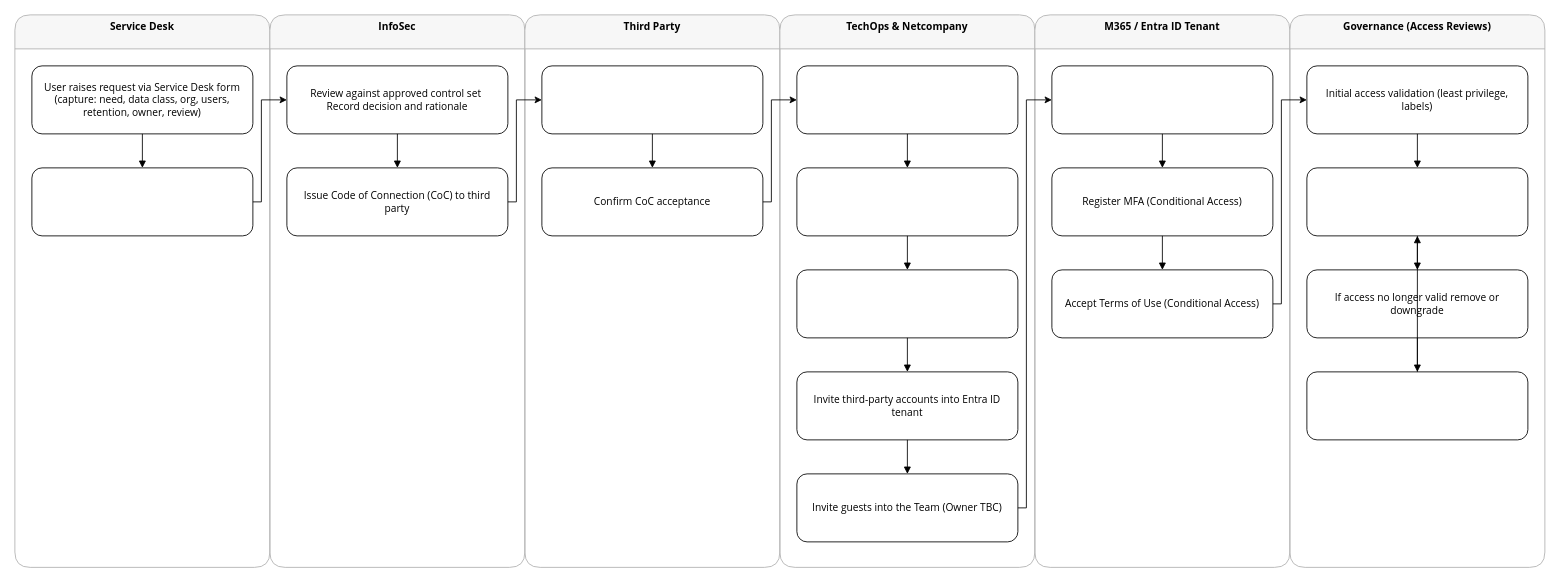
Image size: 1560x582. Some labels were removed from this diagram. The shapes that lost their labels are listed below. From the top down, each one's centre as x and y in pixels, then its label:
At pixel 652 99: "Third party reviews CoC".
At pixel 907 99: "Raise change requests for technical controls".
At pixel 1162 99: "Guest signs in to tenant".
At pixel 142 201: "Form submitted to InfoSec for security review".
At pixel 907 201: "Provision collaboration area (Team/SharePoint)".
At pixel 1417 201: "Access Reviews scheduled and executed".
At pixel 907 303: "Configure third-party access settings".
At pixel 1417 405: "Log, audit, notify owners".
